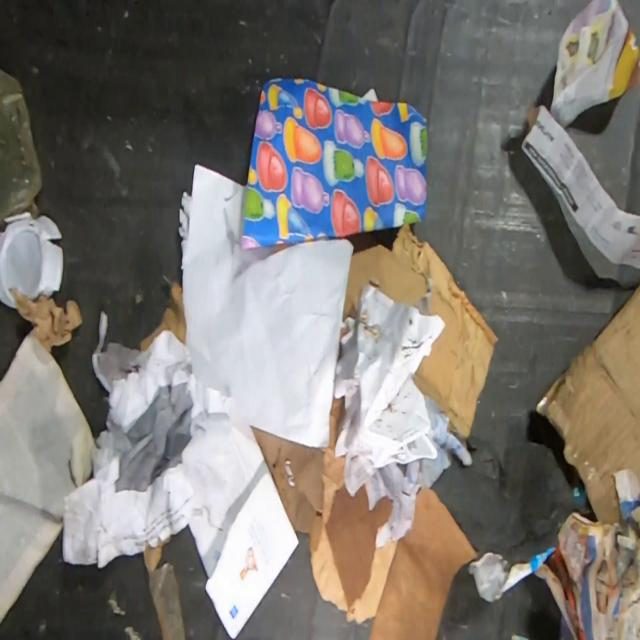cardboard: (344, 223, 498, 439), (535, 284, 640, 525), (309, 396, 399, 623), (367, 486, 478, 640), (251, 427, 324, 552), (138, 278, 186, 351)
rigid_plastic: (0, 211, 64, 308)
soft_plastic: (0, 70, 43, 228)
